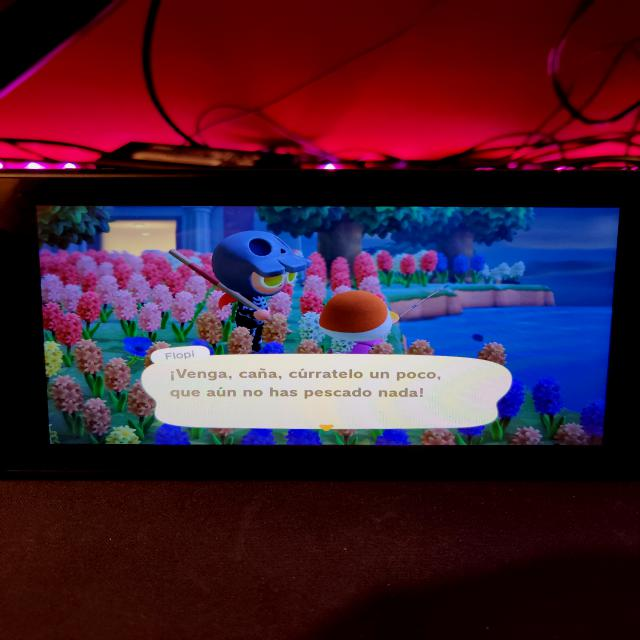text_bubble: (142, 344, 516, 432)
